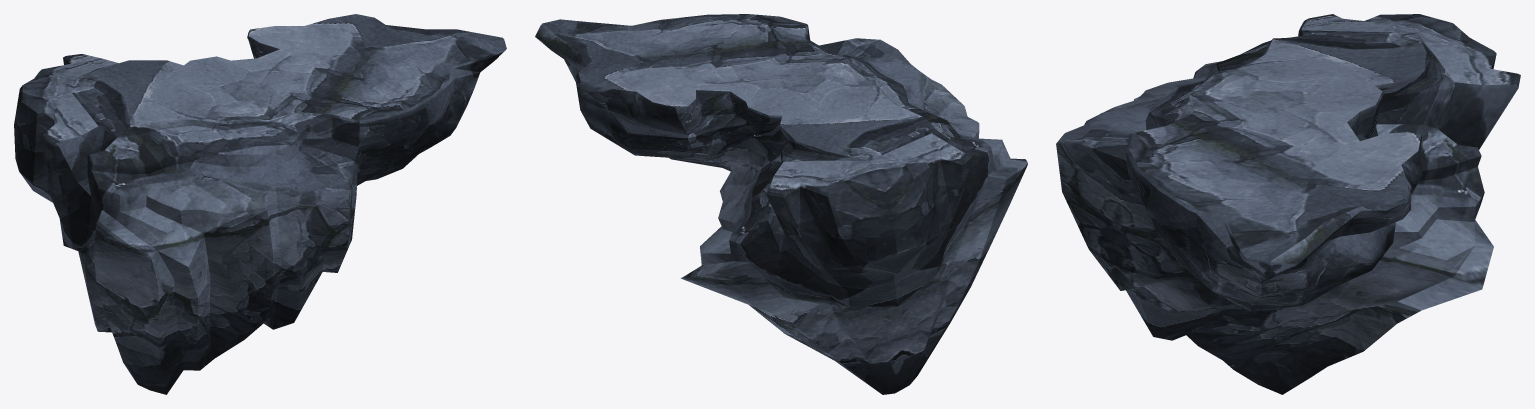
Rendered from cs_lobbynew02_shitou001_02.FBX.
3 renders of one model, left to right at view 1: azimuth 30°, elevation 25°; view 2: azimuth 150°, elevation 25°; view 3: azimuth 270°, elevation 25°, orthographic. The views are drawn at different scales.
Visible parts, largest first — view 1: cs_lobbynew02_shitou001_02; view 2: cs_lobbynew02_shitou001_02; view 3: cs_lobbynew02_shitou001_02.
Part boxes in pixels (x1,y1,x2,y2): cs_lobbynew02_shitou001_02: [14, 14, 506, 394]; cs_lobbynew02_shitou001_02: [535, 14, 1027, 394]; cs_lobbynew02_shitou001_02: [1056, 14, 1520, 394].
Bounding box in the file's own units: 3307 × 2004 × 2482.
